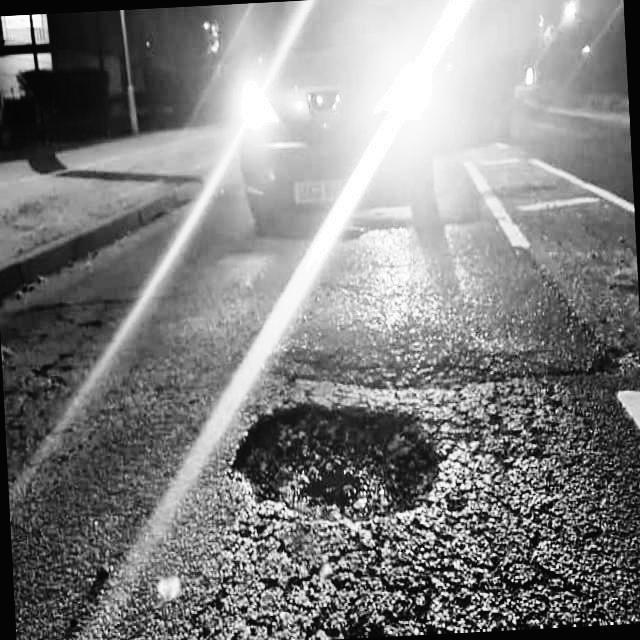Pothole: (227, 381, 442, 546)
